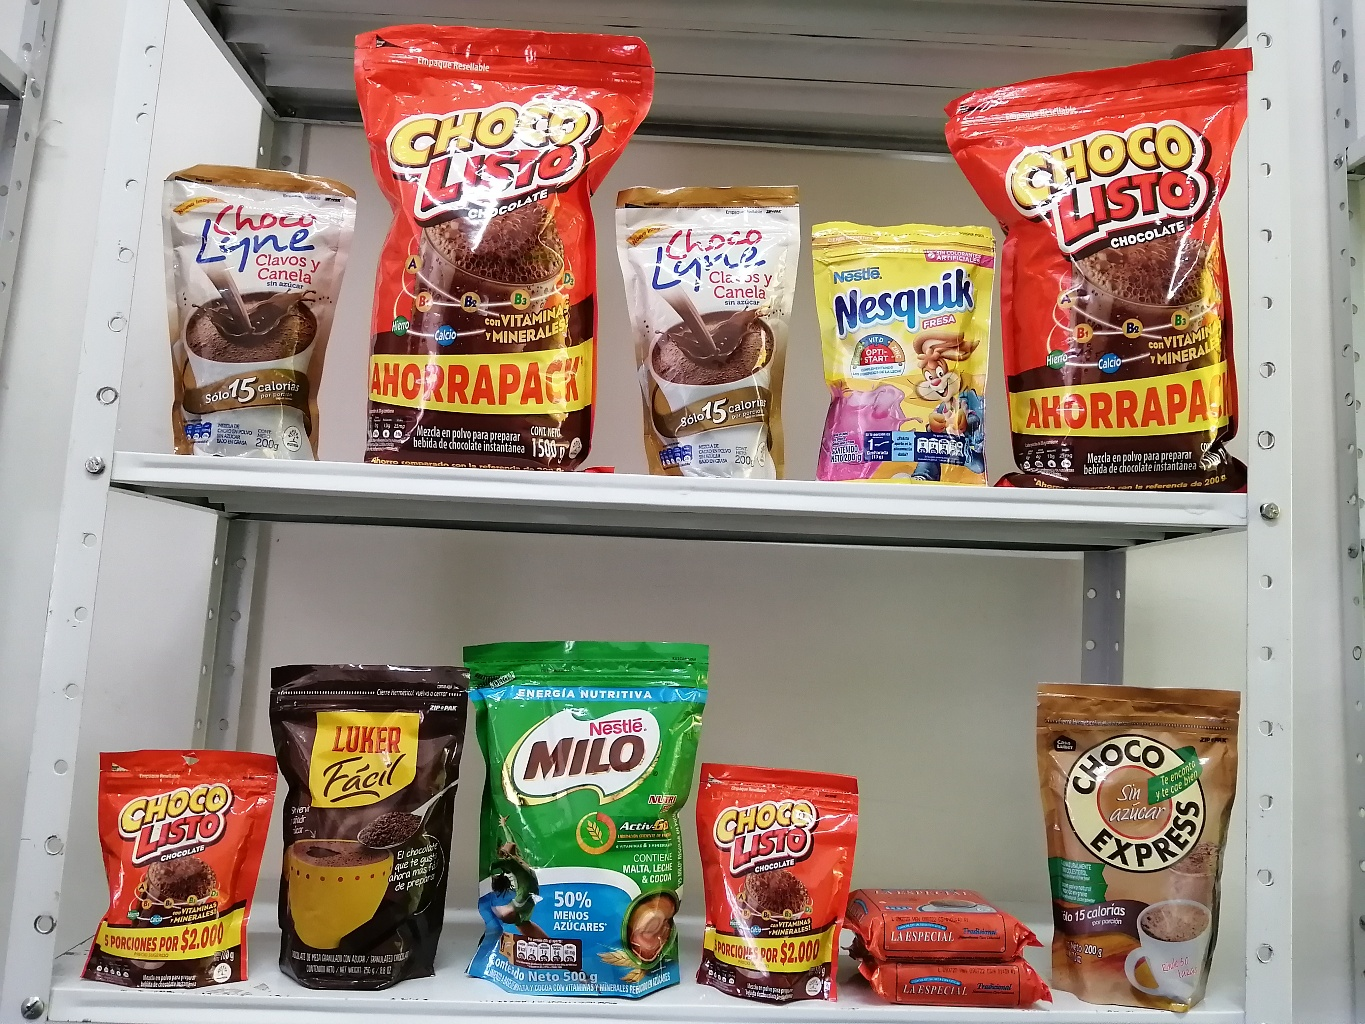COL0170103DYP1,500: (354, 28, 658, 474)
COL0170205DYP50000: (461, 645, 709, 998)
COL0170305DYP20000: (809, 217, 995, 486)
